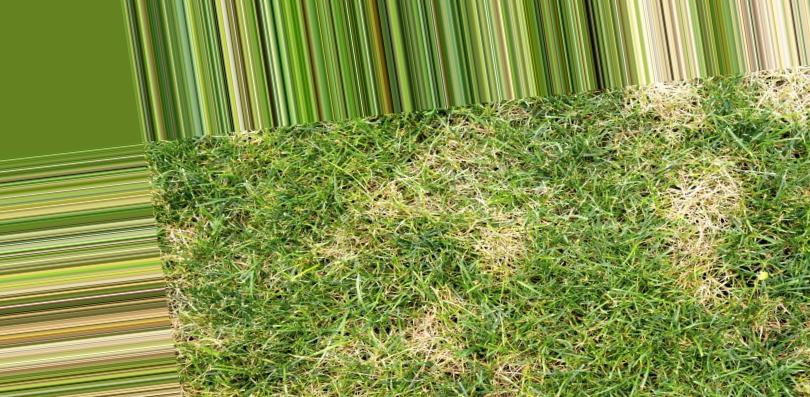patch: (383, 298, 471, 366), (450, 196, 529, 257), (680, 171, 716, 289)
